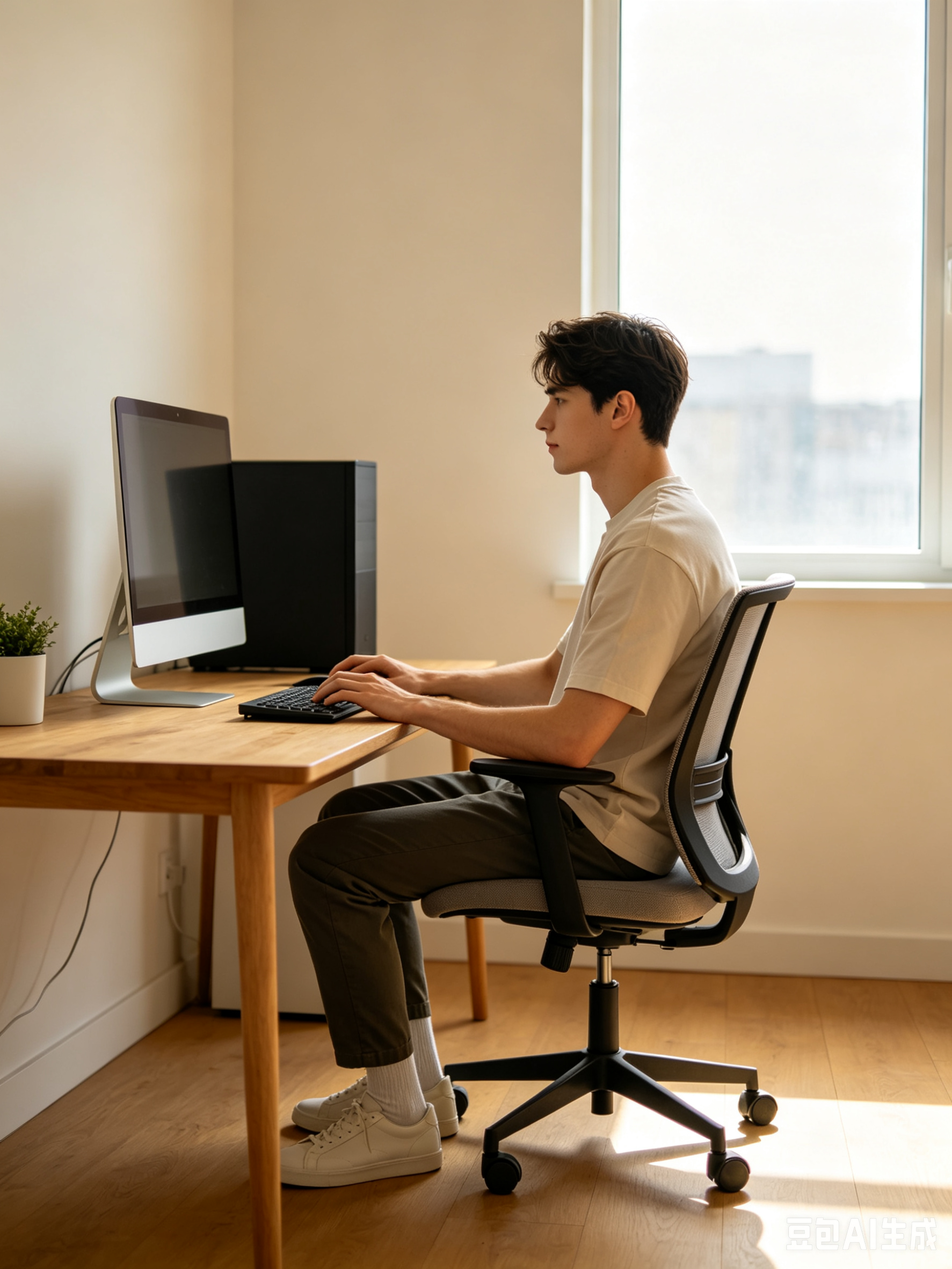sitting_good: (281, 331, 710, 1147)
